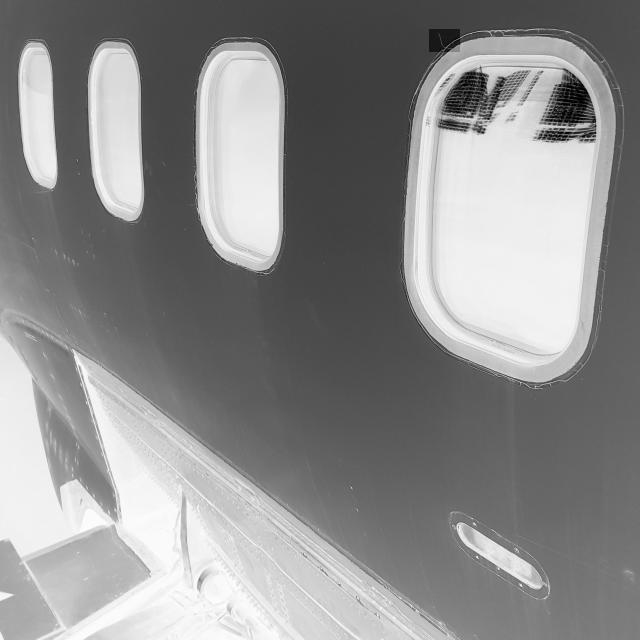crack: (430, 30, 461, 53)
